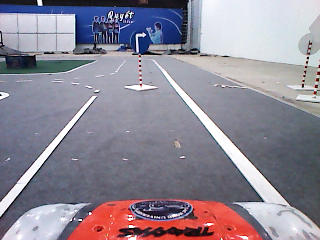turn: (126, 29, 151, 54)
